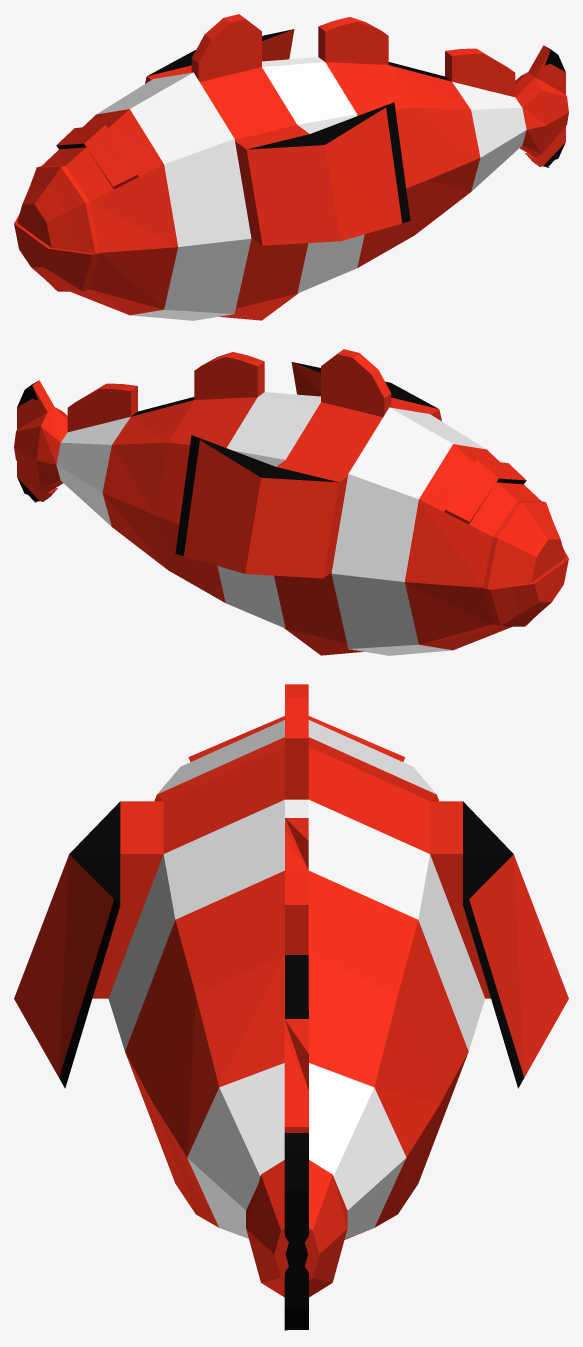
File: pescado_f.fbx
3 views of the same model, one above another, from view 1: azimuth 30°, elevation 25°; view 2: azimuth 150°, elevation 25°; view 3: azimuth 270°, elevation 25° (orthographic). The views are drawn at different scales.
Visible parts, largest first — view 1: Cylinder001; view 2: Cylinder001; view 3: Cylinder001.
Part boxes in pixels (x1,y1,x2,y2): Cylinder001: (14, 14, 568, 320); Cylinder001: (14, 349, 568, 655); Cylinder001: (14, 684, 568, 1330).
Bounding box in the file's own units: 240 × 132 × 127.
